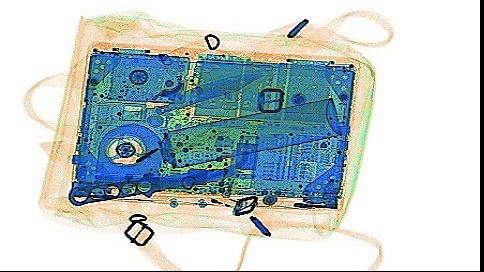knife: (92, 71, 264, 135), (67, 166, 239, 206)
lighter: (179, 175, 243, 212), (212, 144, 249, 201)
pressure: (131, 96, 341, 170)
